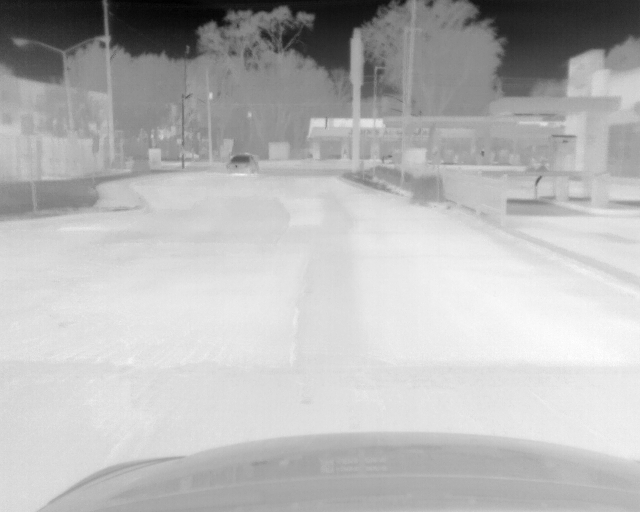car: (226, 155, 260, 176)
